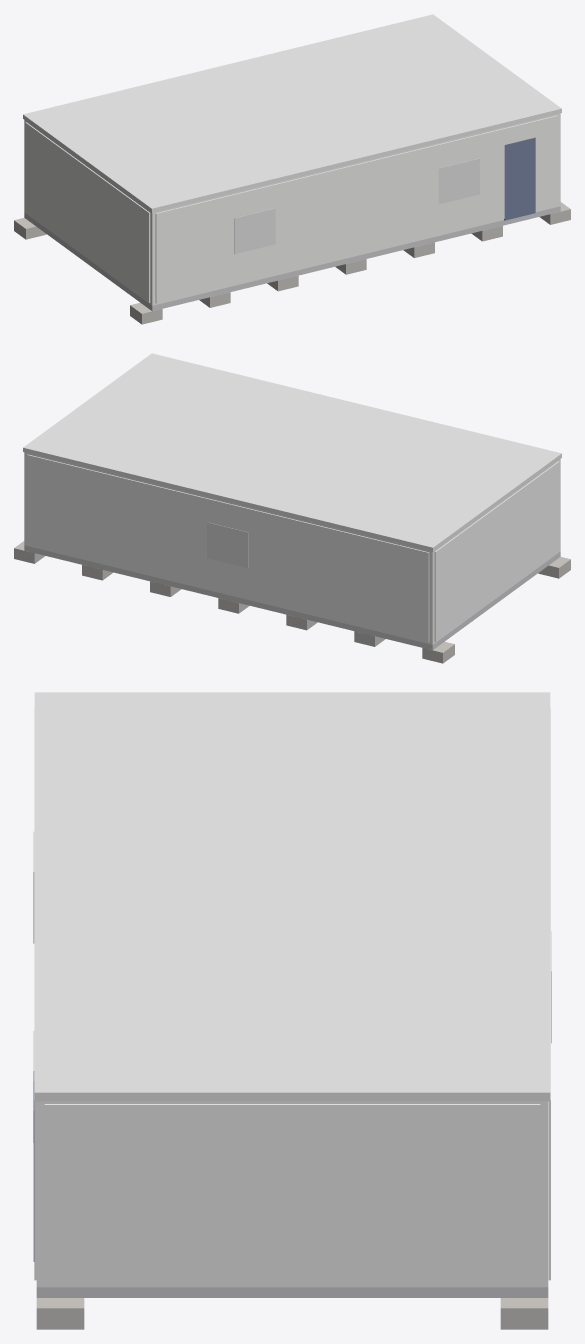
The model's file is Studio-40-SolarPrep-LOD1.glb.
3 renders of one model, top to bottom at view 1: azimuth 30°, elevation 25°; view 2: azimuth 150°, elevation 25°; view 3: azimuth 270°, elevation 25°, orthographic. The views are drawn at different scales.
Visible parts, largest first — view 1: RoofMain, ExteriorPanelsStandard, BaseFrame, WindowsStandard, ExteriorShell, FoundationBlocks, EntryDoor; view 2: RoofMain, ExteriorPanelsStandard, BaseFrame, ExteriorShell, FoundationBlocks, WindowsStandard; view 3: RoofMain, ExteriorPanelsStandard, ExteriorShell, BaseFrame, FoundationBlocks.
Part boxes in pixels (left/top/right/bottom): RoofMain: left=23, top=14, right=561, bottom=212; ExteriorPanelsStandard: left=25, top=115, right=557, bottom=303; BaseFrame: left=24, top=206, right=560, bottom=311; WindowsStandard: left=234, top=158, right=479, bottom=254; ExteriorShell: left=24, top=113, right=560, bottom=305; FoundationBlocks: left=14, top=202, right=570, bottom=324; EntryDoor: left=504, top=137, right=535, bottom=220; RoofMain: left=23, top=353, right=561, bottom=551; ExteriorPanelsStandard: left=27, top=454, right=559, bottom=642; BaseFrame: left=24, top=545, right=560, bottom=650; ExteriorShell: left=24, top=452, right=560, bottom=644; FoundationBlocks: left=14, top=541, right=570, bottom=663; WindowsStandard: left=207, top=522, right=248, bottom=568; RoofMain: left=34, top=692, right=550, bottom=1101; ExteriorPanelsStandard: left=34, top=708, right=550, bottom=1284; ExteriorShell: left=36, top=1101, right=548, bottom=1287; BaseFrame: left=36, top=1287, right=548, bottom=1297; FoundationBlocks: left=36, top=1298, right=548, bottom=1329.
Size of the model in its own units: 12.49 by 3.17 by 6.53.
